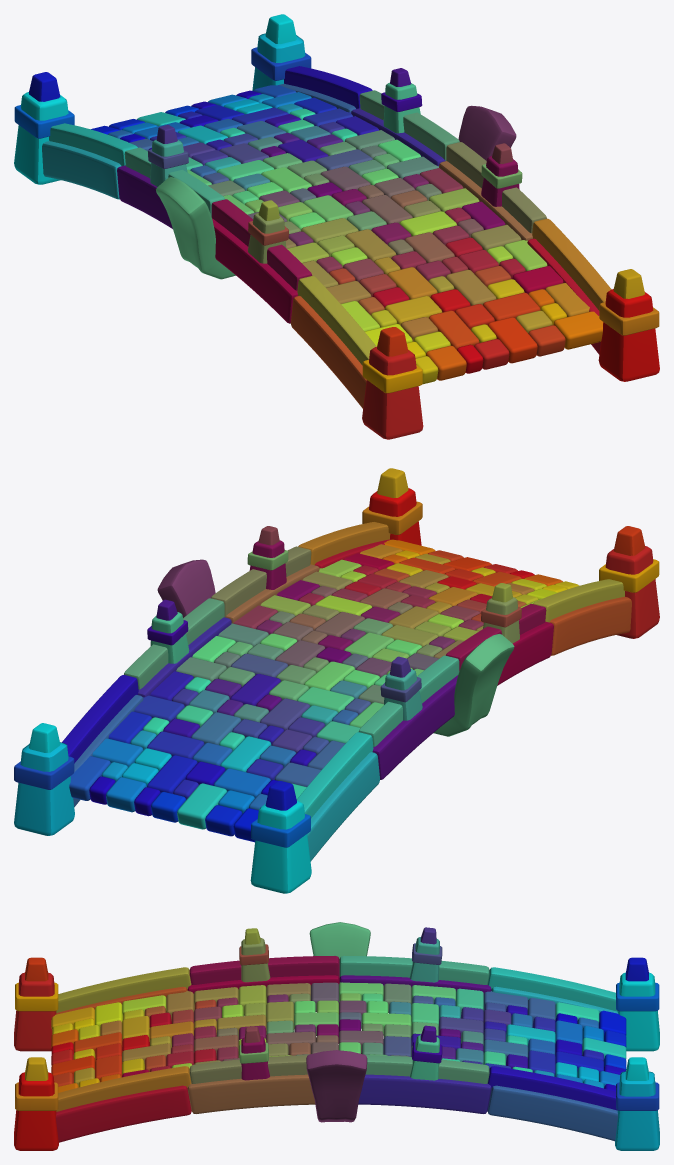
Rendered from New_Bridge_Meadow_B.fbx.
3 views of the same model, one above another, from view 1: azimuth 30°, elevation 25°; view 2: azimuth 150°, elevation 25°; view 3: azimuth 270°, elevation 25° (orthographic). The views are drawn at different scales.
Parts seen in each view (by area): view 1: NewBridgeB; view 2: NewBridgeB; view 3: NewBridgeB.
Part boxes in pixels (box(x1,y1,x2,y2)): NewBridgeB: box(14, 14, 659, 439); NewBridgeB: box(14, 468, 659, 893); NewBridgeB: box(14, 922, 659, 1150).
Size of the model in its own units: 913 by 354 by 1777.
